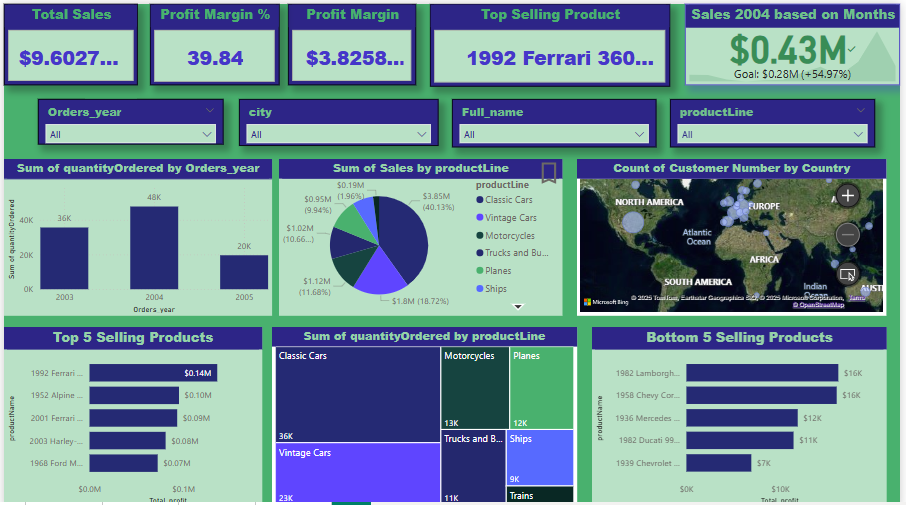

What the dashboard file says about the page in this screenshot:
{"tool":"powerbi","page":{"name":"Page 1","canvas":[1280,720],"ordinal":0},"visuals":[{"type":"cardVisual","title":"Profit Margin","fields":{"Data":["Orders_details.Total_profit"]},"box":[405.7,0,182.9,115.7],"z":0},{"type":"barChart","title":"Top 5 Selling Products","fields":{"Category":["Products.productName"],"Y":["Orders_details.Total_profit"]},"box":[0,461.4,368.6,258.6],"z":1000},{"type":"cardVisual","title":"Top Selling Product","fields":{"Data":["Orders_details.MostOrderedProduct"]},"box":[608.4,0,342.9,117.8],"z":2000},{"type":"pieChart","fields":{"Y":["Sum(Orders_details.Sales)"],"Category":["Products.productLine"]},"box":[392.6,221.1,405.4,223.9],"z":3000},{"type":"map","title":"Count of Customer Number by Country","fields":{"Size":["CountNonNull(Customers.customerNumber)"],"Category":["Customers.country"]},"box":[819.2,221.1,442.2,223.9],"z":4000},{"type":"treemap","fields":{"Group":["Products.productLine"],"Values":["Sum(Orders_details.quantityOrdered)"]},"box":[382.9,461.4,435.7,258.6],"z":5000},{"type":"columnChart","fields":{"Category":["Orders.Orders_year"],"Y":["Sum(Orders_details.quantityOrdered)"]},"box":[0,221.4,382.9,224.3],"z":6000},{"type":"kpi","title":"Sales 2004 based on Months","fields":{"Goal":["Orders.Sales_2003"],"TrendLine":["Orders.Month Name"],"Indicator":["Orders.Sales_2004"]},"box":[972.9,0,307.1,115.7],"z":7000},{"type":"slicer","fields":{"Values":["Orders.Orders_year"]},"box":[49.2,135.4,265.5,65.1],"z":8000},{"type":"cardVisual","title":"Profit Margin %","fields":{"Data":["Orders.Profit Margin %"]},"box":[209.2,0,184.6,116],"z":9000},{"type":"cardVisual","title":"Total Sales","fields":{"Data":["Orders_details.Total_sales"]},"box":[0,0,191.4,115.7],"z":10000},{"type":"slicer","fields":{"Values":["Offices.city"]},"box":[335.8,135.4,284.8,66.8],"z":11000},{"type":"slicer","fields":{"Values":["Employees.Full_name"]},"box":[640,135.4,291.9,68.6],"z":12000},{"type":"slicer","fields":{"Values":["Products.productLine"]},"box":[951.4,135.7,292.9,68.6],"z":13000},{"type":"barChart","title":"Bottom 5 Selling Products","fields":{"Category":["Products.productName"],"Y":["Orders_details.Total_profit"]},"box":[840,461.4,421.4,258.6],"z":14000},{"type":"actionButton","box":[758.2,221.5,40.1,40.1],"z":15000}]}

Visuals, with their boxes in screenshot pixels (x1, y1, x2, y2), scaled from the page's 1280x720 canvas onto the 906x505 screenshot:
"Profit Margin" cardVisual: 287/0/417/81
"Top 5 Selling Products" barChart: 0/324/261/504
"Top Selling Product" cardVisual: 431/0/673/83
pieChart - Sum(Orders_details.Sales) x Products.productLine: 278/155/565/312
"Count of Customer Number by Country" map: 580/155/893/312
treemap - Products.productLine x Sum(Orders_details.quantityOrdered): 271/324/579/504
columnChart - Orders.Orders_year x Sum(Orders_details.quantityOrdered): 0/155/271/313
"Sales 2004 based on Months" kpi: 689/0/905/81
slicer - Orders.Orders_year: 35/95/223/141
"Profit Margin %" cardVisual: 148/0/279/81
"Total Sales" cardVisual: 0/0/135/81
slicer - Offices.city: 238/95/439/142
slicer - Employees.Full_name: 453/95/660/143
slicer - Products.productLine: 673/95/881/143
"Bottom 5 Selling Products" barChart: 595/324/893/504
actionButton: 537/155/565/183
